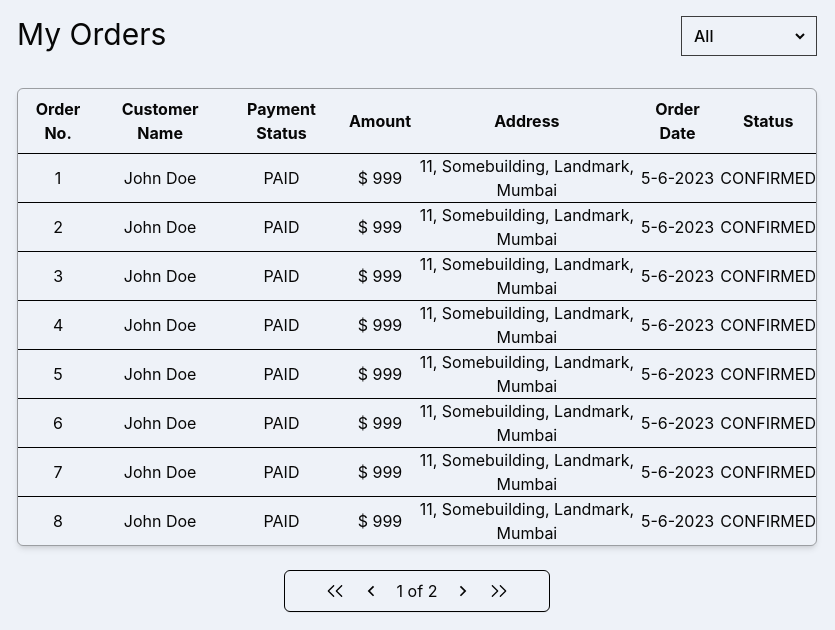
Orders tests › Test orders › Test pagination in orders [Next / Prev]
This screenshot has width=835, height=630.
Click the icon with test id "next" at (463, 591), box [453,581,473,601]
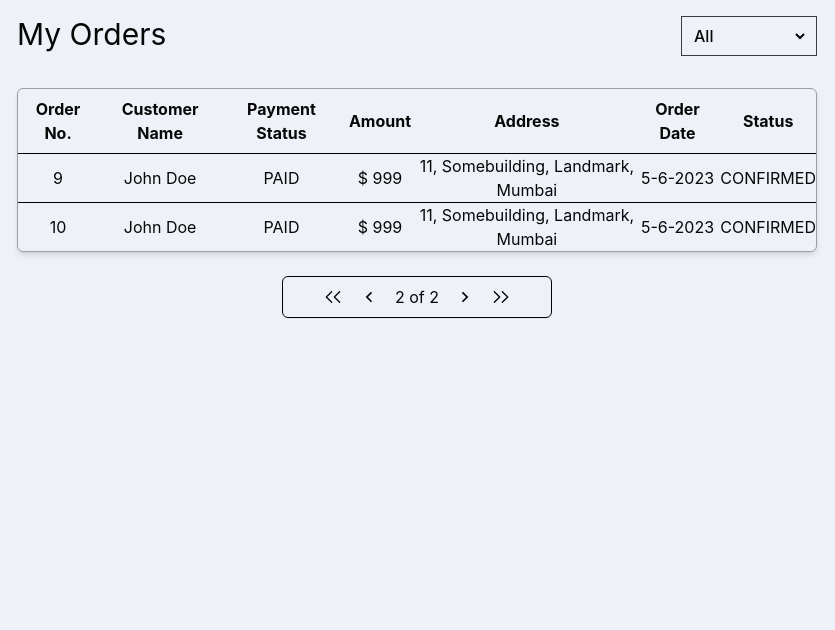
Result: the number of rows with test id "order-row" is 2 at [18,154,816,202]; [18,202,816,251]
Click the icon with test id "prev" at (369, 297), box [359,287,379,307]
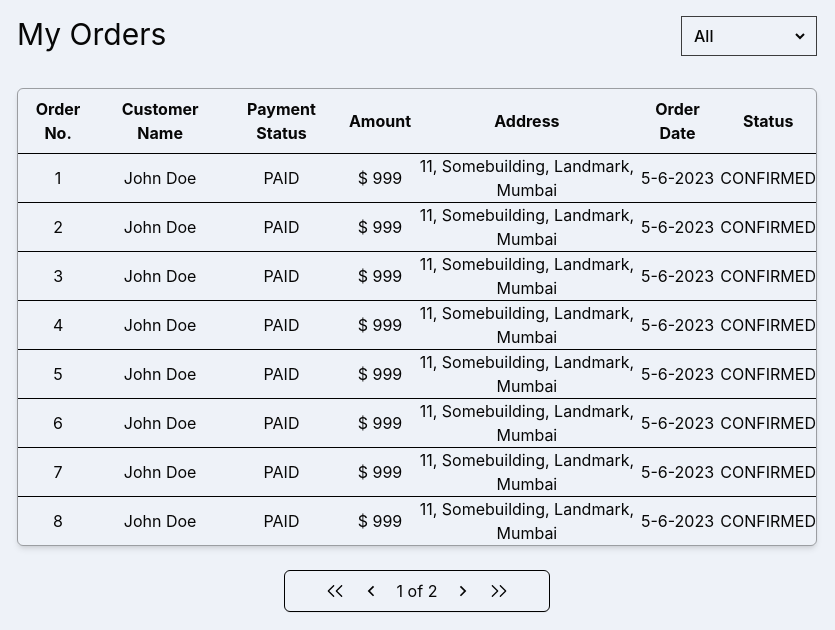
Result: the number of rows with test id "order-row" is 8
